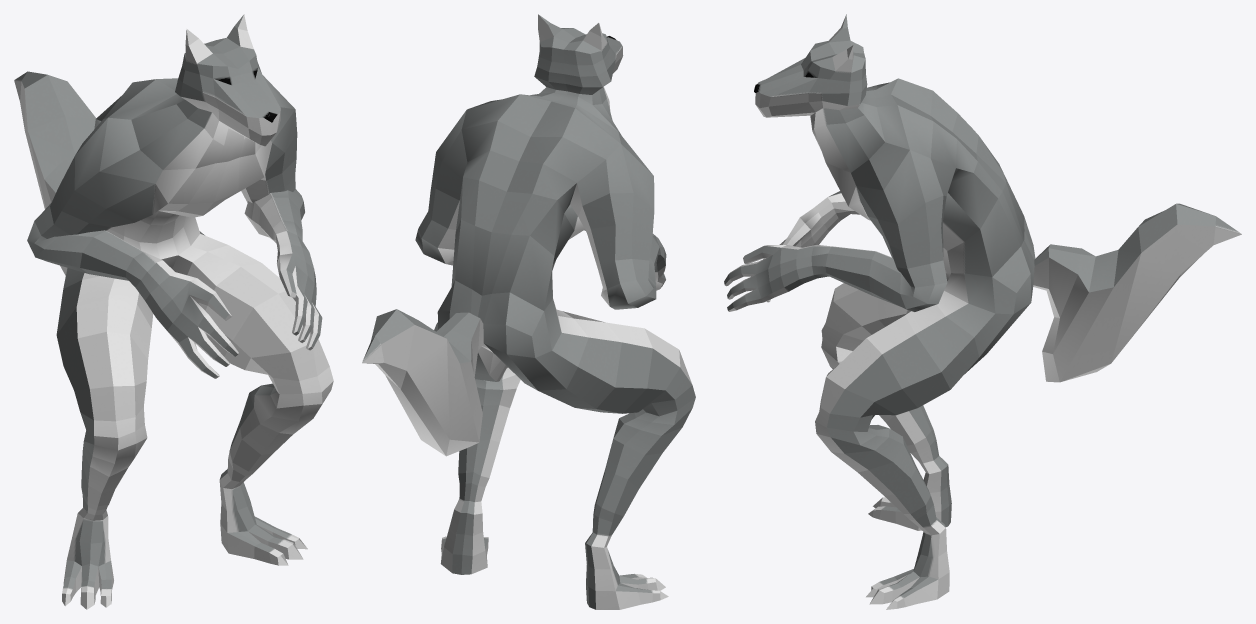
Rendered from WolfIdle_(9).obj.
The picture shows the model from 3 angles, left to right: view 1: azimuth 30°, elevation 25°; view 2: azimuth 150°, elevation 25°; view 3: azimuth 270°, elevation 25°; orthographic projection. The views are drawn at different scales.
Visible parts, largest first — view 1: Box001; view 2: Box001; view 3: Box001.
Part boxes in pixels (<box>): Box001: <box>14,14,333,609</box>; Box001: <box>362,14,695,609</box>; Box001: <box>724,14,1241,609</box>.
Bounding box in the file's own units: 61.94 × 131 × 116.
